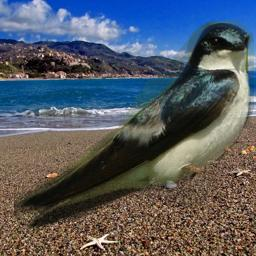Swallow: (14, 21, 254, 233)
